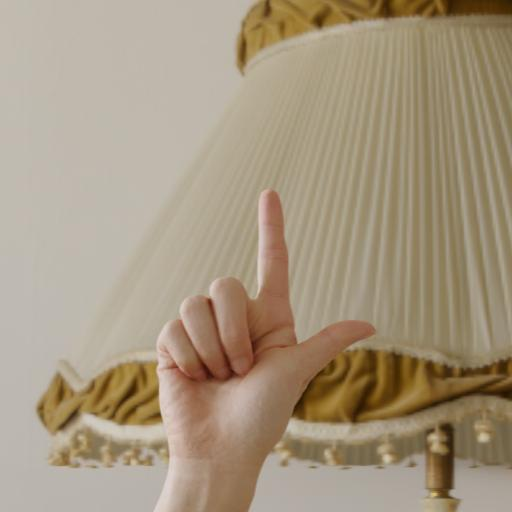L: (166, 164, 418, 512)
